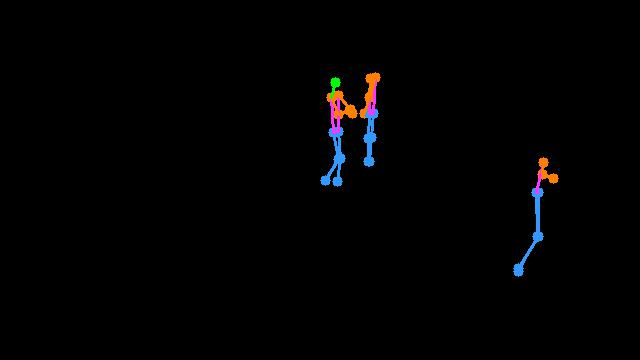normal: (301, 53, 402, 203)
